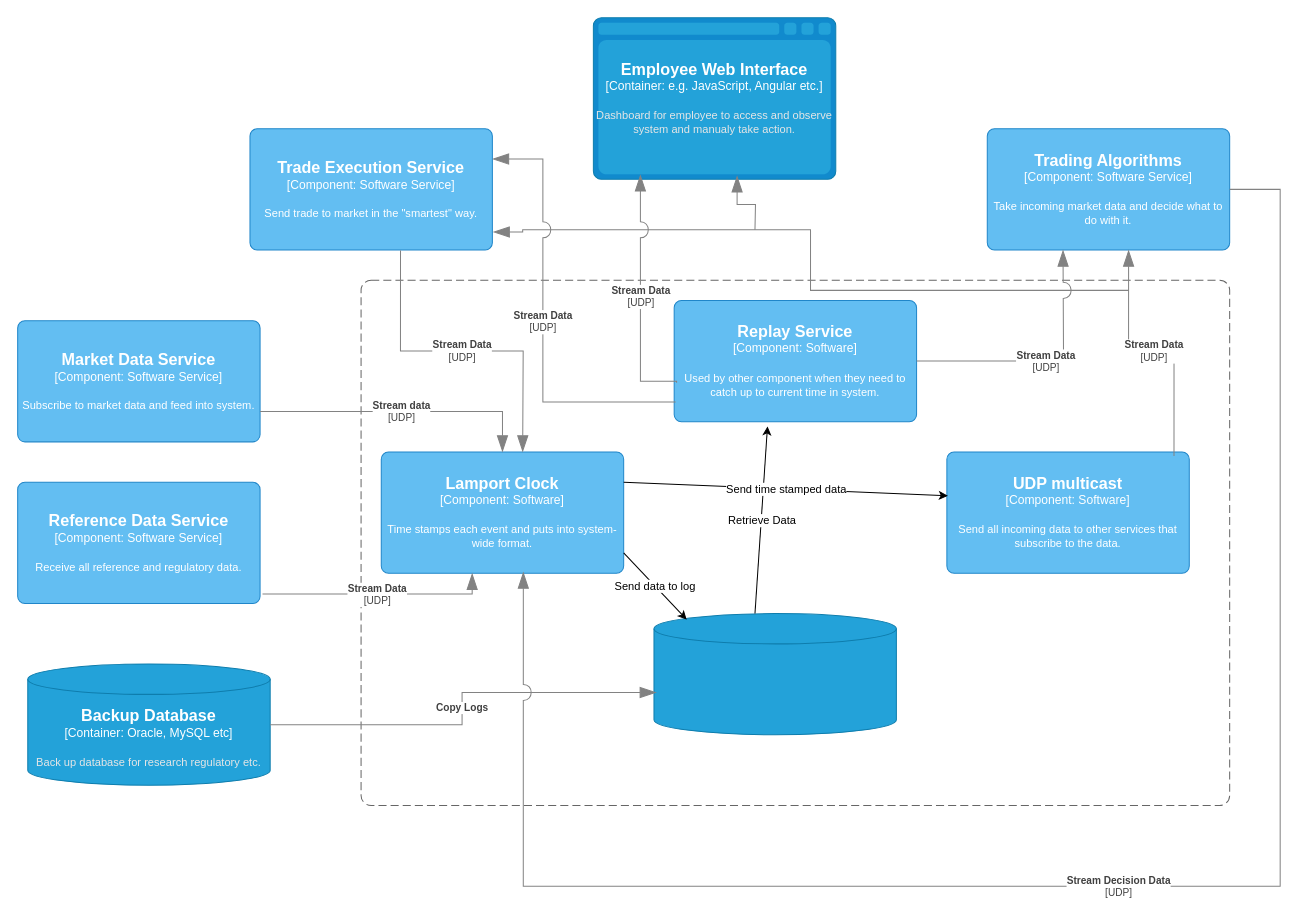
Some shapes in this 1314 by 920 pixel diagram are drawn without their labels. The shapes that lost their labels are listed below. From the top down, each one's box as (x1, y1, x2, y2) in pixels, then its label:
(360, 279, 1230, 805): Lamport Clock + UDP multicast & Replay [Component]
(653, 613, 896, 735): Super Fast Data Store [Container: On Memory File] File to keep log.
